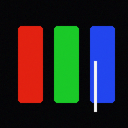4 line_v: (94, 61, 96, 111)
